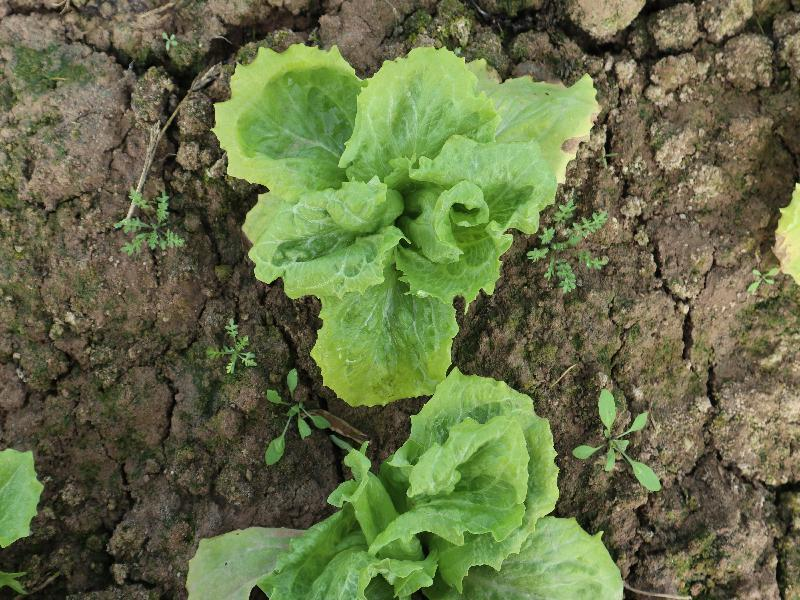lettuce: (209, 39, 602, 407), (186, 366, 624, 599)
